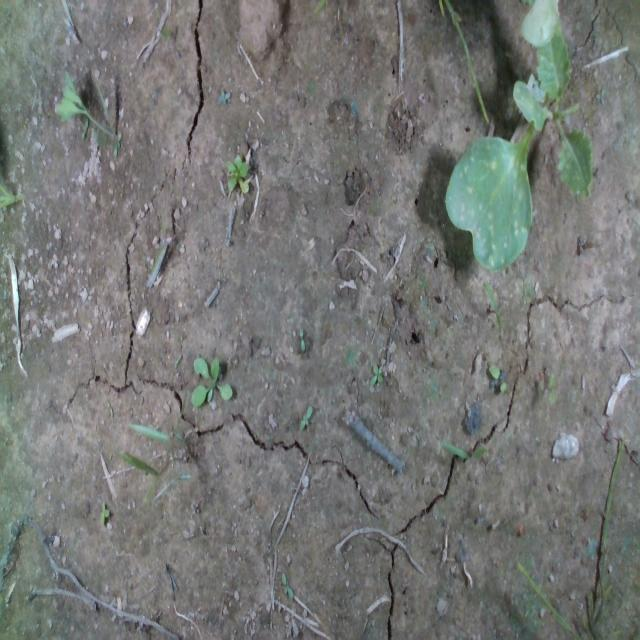weed: (487, 362, 507, 393), (298, 404, 312, 431), (369, 361, 383, 386), (98, 498, 110, 526), (216, 86, 230, 105), (298, 328, 304, 352)
